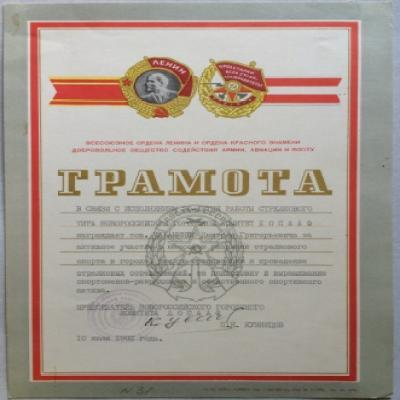document: (4, 5, 392, 397)
